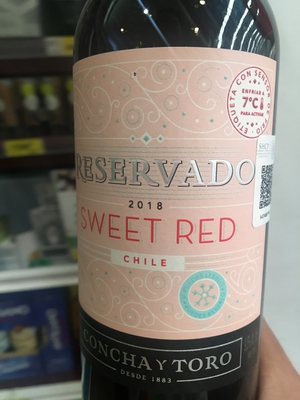reservado sweet red: (58, 5, 281, 400)
